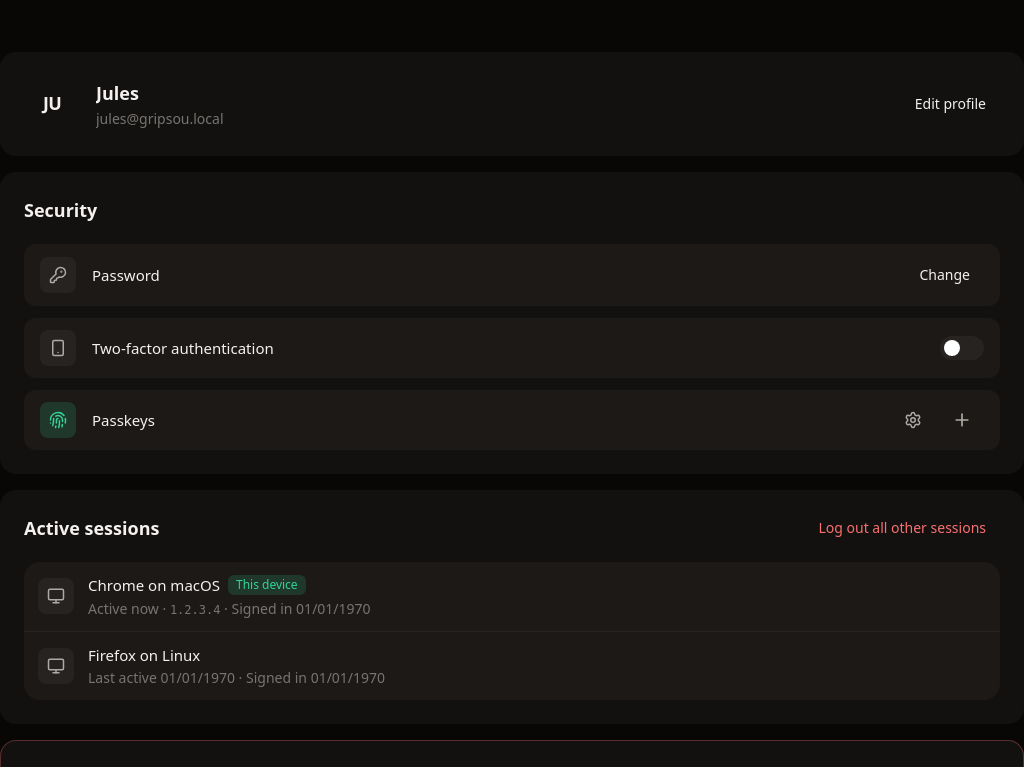
Test: SettingsAccount passkeys row › opens the passkeys list from the gear
The width and height of the screenshot is (1024, 767).
Click the button named "Manage" at [913, 420], box [898,405,928,435]
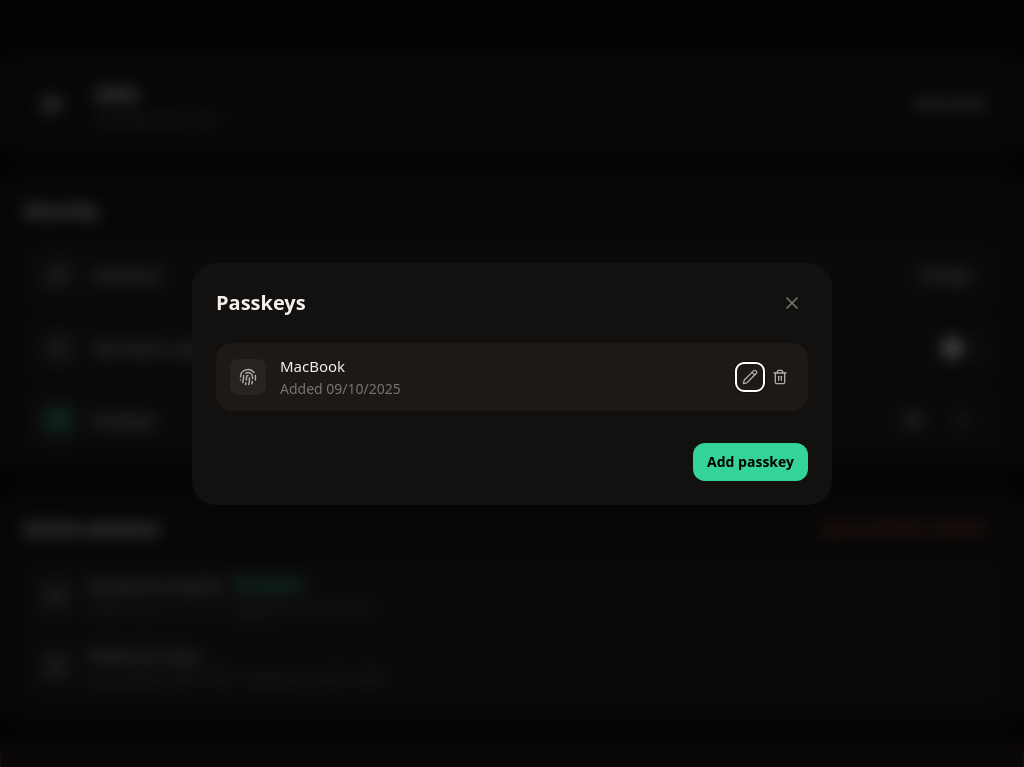
Result: the text "MacBook" is shown at [280,356,345,376]
